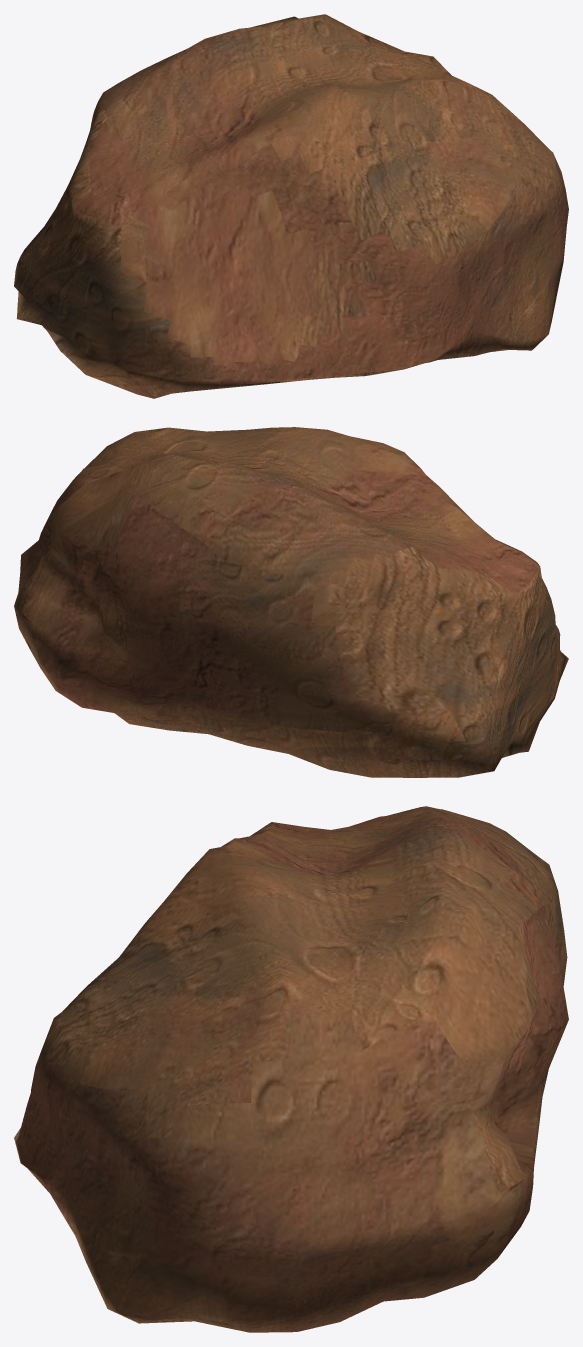
File: MarsRock8.obj
3 views of the same model, one above another, from view 1: azimuth 30°, elevation 25°; view 2: azimuth 150°, elevation 25°; view 3: azimuth 270°, elevation 25° (orthographic). The views are drawn at different scales.
Visible parts, largest first — view 1: Rocks7; view 2: Rocks7; view 3: Rocks7.
Part boxes in pixels (x1,y1,x2,y2): Rocks7: (14,14,568,398); Rocks7: (14,427,568,777); Rocks7: (14,806,568,1332).
Size of the model in its own units: 1.15 by 0.6387 by 0.8597.
1 material, 1 textured.
